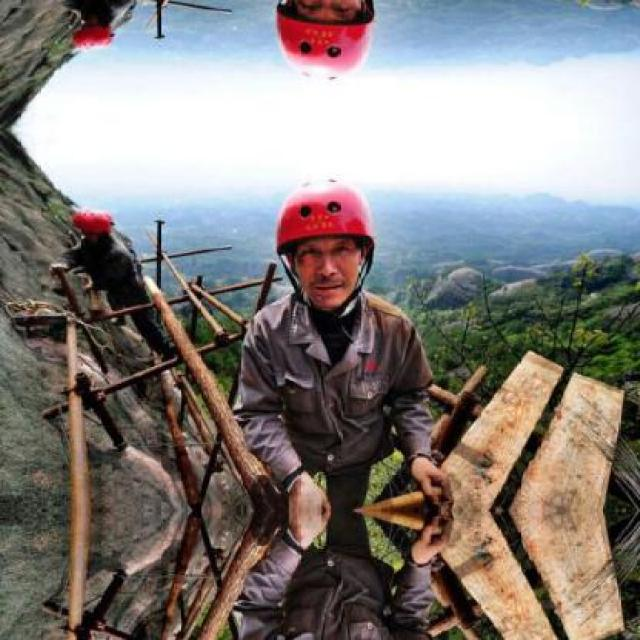helmet: (264, 176, 388, 310), (263, 0, 389, 83), (71, 16, 120, 58), (71, 201, 120, 242)
